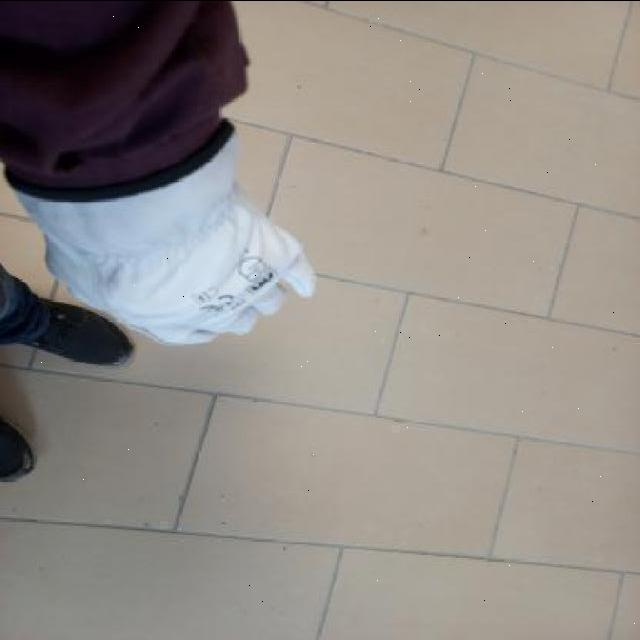Boots: (4, 291, 133, 368), (0, 421, 53, 486)
